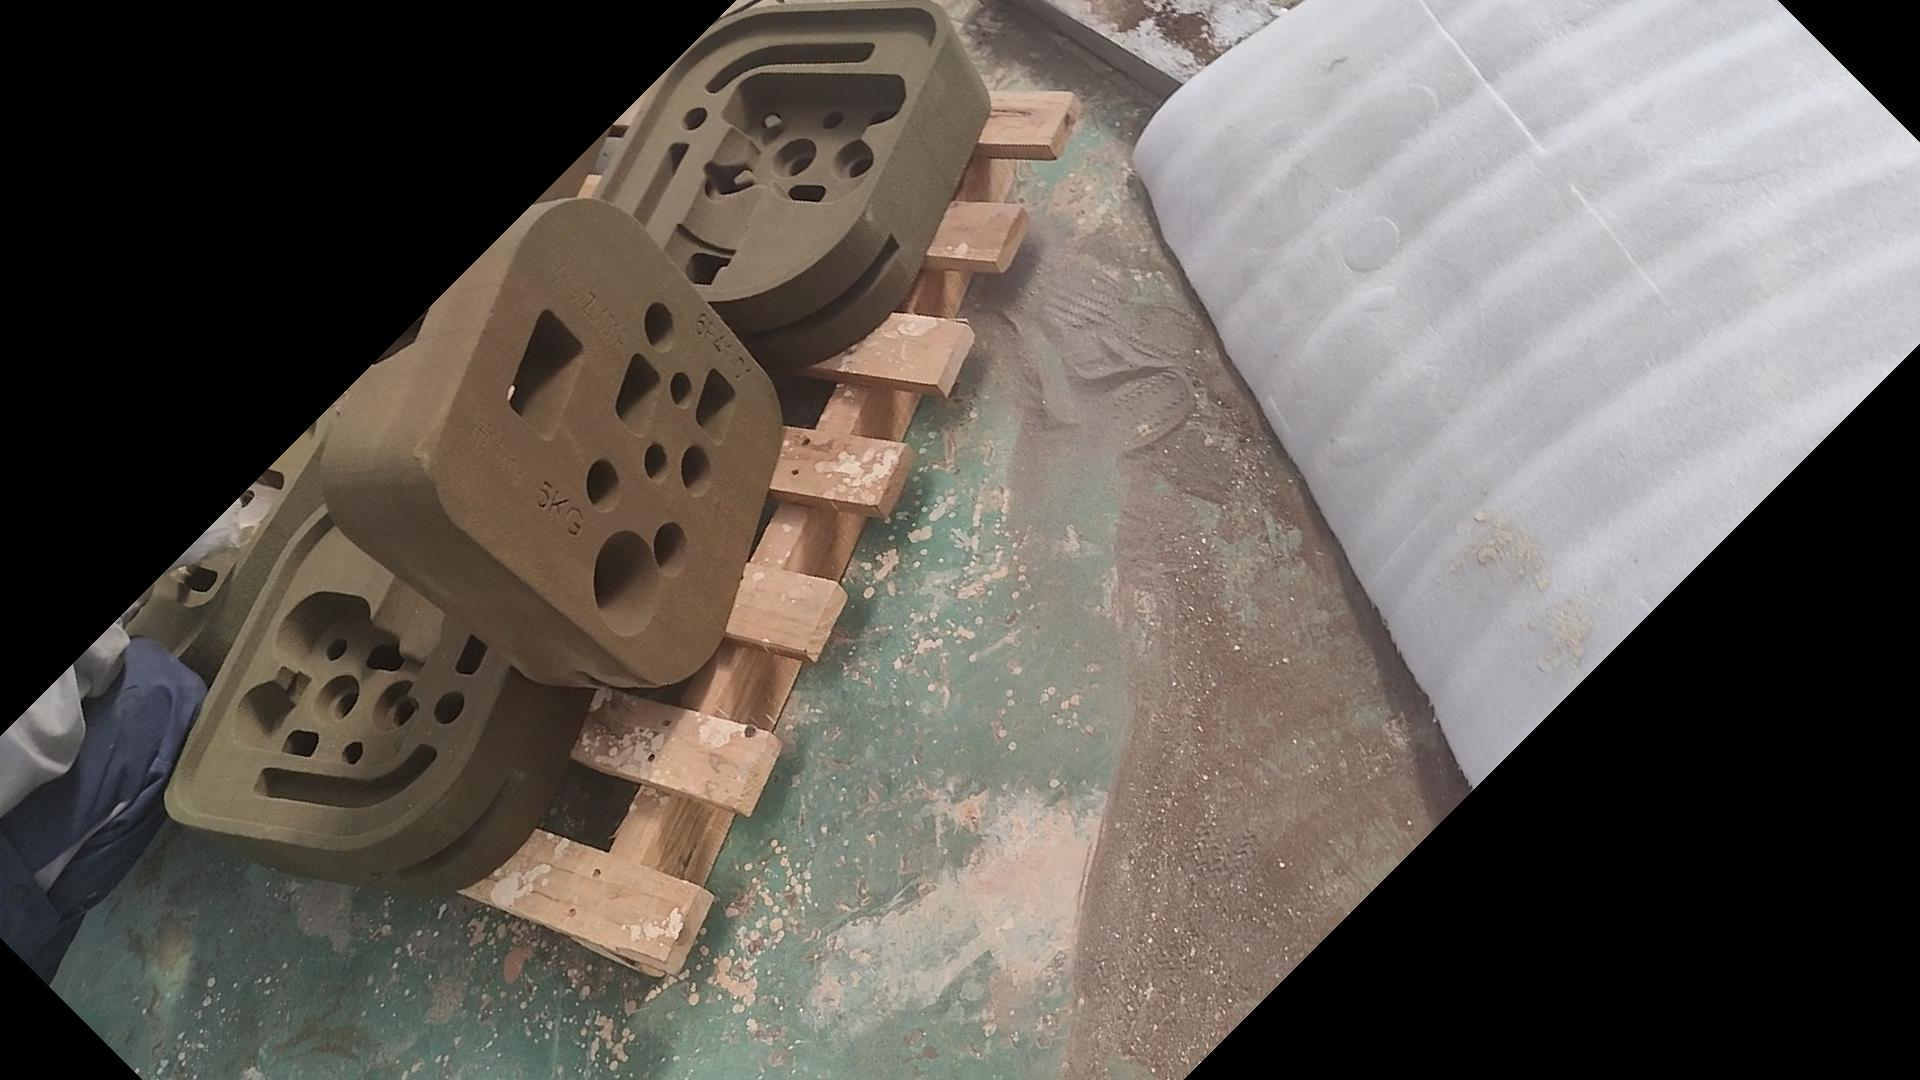pouring hole: (593, 531, 661, 638)
